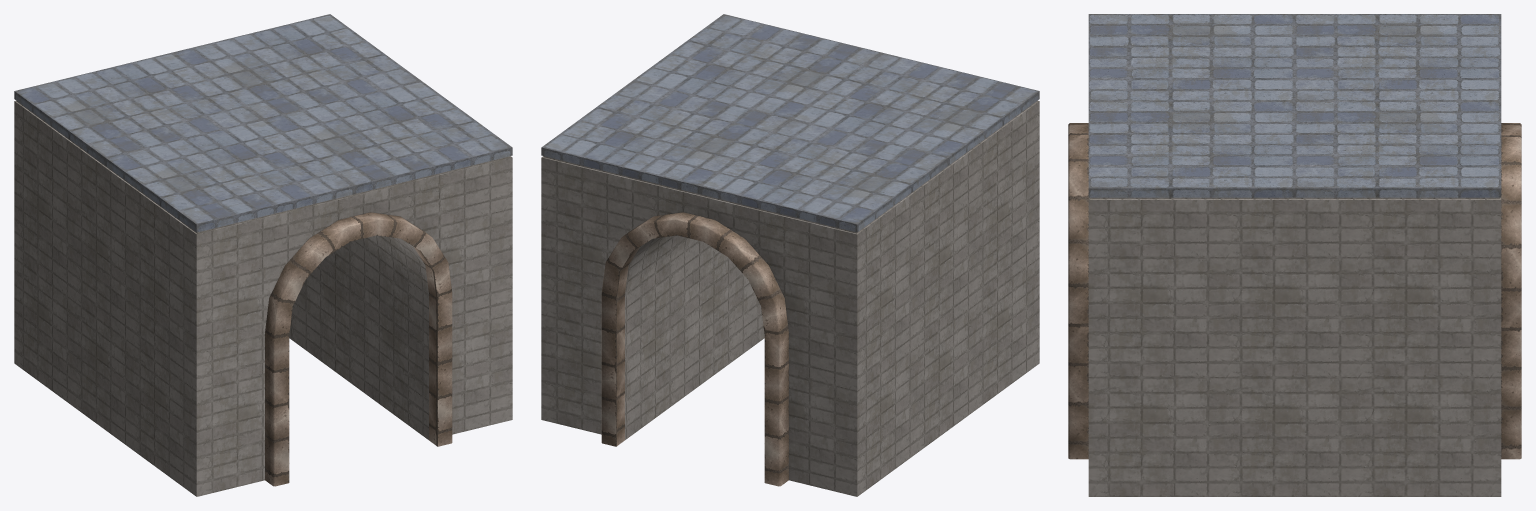
File: SewerSet1_25mV1.fbx
3 views of the same model, side by side, from view 1: azimuth 30°, elevation 25°; view 2: azimuth 150°, elevation 25°; view 3: azimuth 270°, elevation 25° (orthographic). The views are drawn at different scales.
Parts seen in each view (by area): view 1: Box095; view 2: Box095; view 3: Box095.
Boxes of the visible parts, bbox=[...] form: Box095: bbox=[14, 14, 512, 496]; Box095: bbox=[541, 14, 1039, 496]; Box095: bbox=[1068, 14, 1521, 496].
Size of the model in its own units: 2500 by 2061 by 2744.
